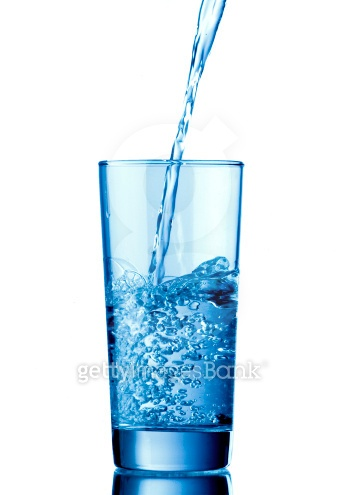glass of water: (89, 151, 265, 482)
